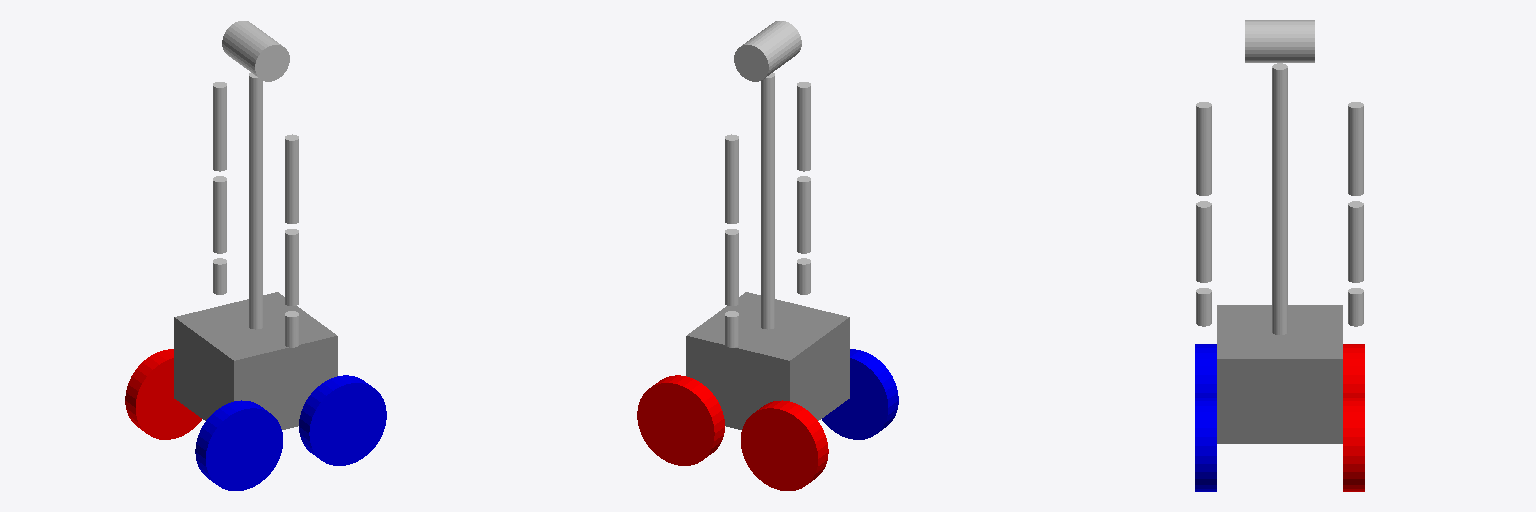
--- Render facts (derived) ---
Views: 3 orthographic renders of the robot side by side, from view 1: azimuth 30°, elevation 25°; view 2: azimuth 150°, elevation 25°; view 3: azimuth 270°, elevation 25°.
Model wheeled_atlas with 29 links and 28 joints (14 revolute, 4 continuous, 10 fixed), rooted at base_link, posed all joints at 0.
Links seen in each view (by area): view 1: base, RbackWheel, RfrontWheel, LfrontWheel, Torso, NeckPitch_link, LShoulderRoll_link, RShoulderRoll_link, LElbowPitch_link, RElbowPitch_link; view 2: base, LbackWheel, LfrontWheel, RfrontWheel, Torso, NeckPitch_link, RShoulderRoll_link, LShoulderRoll_link, RElbowPitch_link, LElbowPitch_link; view 3: base, Torso, NeckPitch_link, LbackWheel, RbackWheel, LShoulderRoll_link, RShoulderRoll_link, LElbowPitch_link, RElbowPitch_link, LfrontWheel, RfrontWheel, LWristRoll_link (+1 smaller).
Link boxes in pixels (left/top/right/bottom): base: left=174, top=292, right=337, bottom=429; RbackWheel: left=299, top=375, right=386, bottom=465; RfrontWheel: left=195, top=400, right=282, bottom=490; LfrontWheel: left=125, top=349, right=201, bottom=439; Torso: left=249, top=73, right=262, bottom=329; NeckPitch_link: left=222, top=21, right=289, bottom=81; LShoulderRoll_link: left=213, top=82, right=226, bottom=171; RShoulderRoll_link: left=285, top=134, right=298, bottom=223; LElbowPitch_link: left=213, top=176, right=226, bottom=253; RElbowPitch_link: left=285, top=229, right=298, bottom=305; base: left=686, top=292, right=849, bottom=429; LbackWheel: left=637, top=375, right=724, bottom=465; LfrontWheel: left=741, top=400, right=828, bottom=490; RfrontWheel: left=822, top=349, right=898, bottom=439; Torso: left=761, top=73, right=774, bottom=329; NeckPitch_link: left=734, top=21, right=801, bottom=81; RShoulderRoll_link: left=797, top=82, right=810, bottom=171; LShoulderRoll_link: left=725, top=134, right=738, bottom=223; RElbowPitch_link: left=797, top=176, right=810, bottom=253; LElbowPitch_link: left=725, top=229, right=738, bottom=305; base: left=1217, top=305, right=1342, bottom=443; Torso: left=1272, top=63, right=1287, bottom=334; NeckPitch_link: left=1245, top=20, right=1314, bottom=62; LbackWheel: left=1343, top=397, right=1364, bottom=491; RbackWheel: left=1195, top=397, right=1216, bottom=491; LShoulderRoll_link: left=1348, top=102, right=1363, bottom=195; RShoulderRoll_link: left=1196, top=102, right=1211, bottom=195; LElbowPitch_link: left=1348, top=201, right=1363, bottom=282; RElbowPitch_link: left=1196, top=201, right=1211, bottom=282; LfrontWheel: left=1343, top=344, right=1364, bottom=396; RfrontWheel: left=1195, top=344, right=1216, bottom=396; LWristRoll_link: left=1348, top=288, right=1363, bottom=326.
Size in the robot's own frame: 0.7 by 0.54 by 1.53 metres.
Geometry: primitives only (box / cylinder / sphere), no mesh files.

The robot description file, URDF, robot "wheeled_atlas":
<?xml version="1.0" ?>
<!-- =================================================================================== -->
<!-- |    This document was autogenerated by xacro from WheeledAtlas.urdf.xacro        | -->
<!-- |    EDITING THIS FILE BY HAND IS NOT RECOMMENDED                                 | -->
<!-- =================================================================================== -->
<robot name="wheeled_atlas" xmlns:body="http://playerstage.sourceforge.net/gazebo/xmlschema/#body" xmlns:controller="http://playerstage.sourceforge.net/gazebo/xmlschema/#controller" xmlns:geom="http://playerstage.sourceforge.net/gazebo/xmlschema/#geom" xmlns:interface="http://playerstage.sourceforge.net/gazebo/xmlschema/#interface" xmlns:joint="http://playerstage.sourceforge.net/gazebo/xmlschema/#slider" xmlns:sensor="http://playerstage.sourceforge.net/gazebo/xmlschema/#sensor" xmlns:xacro="http://ros.org/wiki/xacro">  
  <!--Properties of the robot-->
  <!--Inertial element for cylinder, axis along z-->
  <!--Inertial element for a box-->
  <!--Create the visual element for a cylinder-->
  <!--Create the visual element for a box-->
  <!--Creates a link in the form of a cylinder-->
  <!--Creates a link in the form of a box-->
  <!--Creates a simple joint between two cylindrical links.-->
  <!--Creates a simple joint between two cylindrical links.-->
  <!--Creates a simple fixed joint-->
  <!--Creates a left and a right of some cylinder-->
  <!--Creates a left and a right of some cylinder-->
  <!--Creates a SIMPLE left and a right joints-->
  <!--Creates a COMPLEX left and a right joints-->
  <!--Creates a COMPLEX left and a right joints-->
  <!--Creates two fixed joints-->
  <!--Creates a transmission at a joint.-->
  <!--Creates a pair of transmissions-->

  <material name="LightGrey">
    <color rgba="0.8 0.8 0.8 1.0"/>
  </material>
  <material name="Grey">
    <color rgba="0.6 0.6 0.6 1.0"/>
  </material>
  <material name="DarkGrey">
    <color rgba="0.3 0.3 0.3 1.0"/>
  </material>
  <material name="Black">
    <color rgba="0.1 0.1 0.1 1.0"/>
  </material>


<link name="Torso">
    <!-- assuming the rotational inertia of the torso is of a cuboid -->
    <inertial>
      <mass value="19.267"/>
      <inertia ixx="0.769042349872" ixy="0.0" ixz="0.0" iyy="0.418881944536" iyz="0.0" izz="0.452546488768"/>
    </inertial>
    <visual>
      <origin rpy="0 0 0" xyz="0.0 0.0 0.43927308"/>
      <geometry>
        <cylinder length="0.97854616" radius="0.025"/>
      </geometry>
      <material name="LightGrey"/>
    </visual>
    <collision>
      <origin rpy="0 0 0" xyz="0.0 0.0 0.43927308"/>
      <geometry>
        <box size=" 0.178562 0.4999736 0.97854616"/>
      </geometry>
    </collision>
  </link>

   <link name="NeckYaw_link">
    <inertial>
      <mass value="0.9"/>
      <inertia ixx="0.00530271247008" ixy="0.0" ixz="0.0" iyy="0.00530271247008" iyz="0.0" izz="0.00201768391825"/>
    </inertial>
  </link>
  <link name="NeckPitch_link">
    <inertial>
      <mass value="0.9"/>
      <inertia ixx="0.00530271247008" ixy="0.0" ixz="0.0" iyy="0.00530271247008" iyz="0.0" izz="0.00201768391825"/>
    </inertial>
    <visual>
      <origin rpy="1.57079632679 0 0" xyz="0 0 0.13749274"/>
      <geometry>
        <cylinder length="0.22141688" radius="0.06696075"/>
        <!--  <sphere radius="${(l_head/2)*height}"/>-->
      </geometry>
      <material name="LightGrey"/>
    </visual>
    <collision>
      <origin rpy="1.57 0 0" xyz="0 0 0.13749274"/>
      <geometry>
        <cylinder length="0.23927308" radius="0.06696075"/>
      </geometry>
    </collision>
  </link>
   <link name="LShoulderYaw_link">
    <inertial>
      <mass value="2.18522222222"/>
     <inertia ixx="0.0231667622255" ixy="0.0" ixz="0.0" iyy="0.0231667622255" iyz="0.0" izz="0.00217732727683"/>
    </inertial>
  </link>
  <link name="LShoulderPitch_link">
    <inertial>
      <mass value="2.18522222222"/>
      <inertia ixx="0.0231667622255" ixy="0.0" ixz="0.0" iyy="0.0231667622255" iyz="0.0" izz="0.00217732727683"/>
    </inertial>
  </link>
  <link name="LShoulderRoll_link">
    <inertial>
      <mass value="2.18522222222"/>
      <inertia ixx="0.0231667622255" ixy="0.0" ixz="0.0" iyy="0.0231667622255" iyz="0.0" izz="0.00217732727683"/>
    </inertial>
    <visual>
      <origin rpy="0 0 0" xyz="0 0 -0.17409795"/>
      <geometry>
        <cylinder length="0.3081959" radius="0.025"/>
      </geometry>
      <material name="LightGrey"/>
    </visual>
    <collision>
      <origin rpy="0 0 0" xyz="0 0 -0.17409795"/>
      <geometry>
        <cylinder length="0.3481959" radius="0.025"/>
      </geometry>
    </collision>
  </link>
  <link name="LElbowPitch_link">
    <inertial>
      <mass value="3.27783333333"/>
      <inertia ixx="0.0268028987778" ixy="0.0" ixz="0.0" iyy="0.0268028987778" iyz="0.0" izz="0.00326599091525"/>
    </inertial>
    <visual>
      <origin rpy="0 0 0" xyz="0 0 -0.1517777"/>
      <geometry>
        <cylinder length="0.2635554" radius="0.025"/>
      </geometry>
      <material name="LightGrey"/>
    </visual>
    <collision>
      <origin rpy="0 0 0" xyz="0 0 -0.1517777"/>
      <geometry>
        <cylinder length="0.3035554" radius="0.025"/>
      </geometry>
    </collision>
  </link>
  <link name="LWristYaw_link">
    <inertial>
      <mass value="1.0"/>
      <inertia ixx="0.0048720194876" ixy="0.0" ixz="0.0" iyy="0.0048720194876" iyz="0.0" izz="0.00199277424025"/>
    </inertial>
  </link>
  <link name="LWristRoll_link">
    <inertial>
      <mass value="1.0"/>
  <inertia ixx="0.0048720194876" ixy="0.0" ixz="0.0" iyy="0.0048720194876" iyz="0.0" izz="0.00199277424025"/>
    </inertial>
    <visual>
      <origin rpy="0 0 0" xyz="0 0 -0.076245974"/>
      <geometry>
        <cylinder length="0.112491948" radius="0.025"/>
      </geometry>
      <material name="LightGrey"/>
    </visual>
    <collision>
      <origin rpy="0 0 0" xyz="0 0 -0.076245974"/>
      <geometry>
        <cylinder length="0.152491948" radius="0.025"/>
      </geometry>
    </collision>
  </link>
  <link name="RShoulderYaw_link">
    <inertial>
      <mass value="2.18522222222"/>
      <inertia ixx="0.0231667622255" ixy="0.0" ixz="0.0" iyy="0.0231667622255" iyz="0.0" izz="0.00217732727683"/>
    </inertial>
  </link>
  <link name="RShoulderPitch_link">
    <inertial>
      <mass value="2.18522222222"/>
      <inertia ixx="0.0231667622255" ixy="0.0" ixz="0.0" iyy="0.0231667622255" iyz="0.0" izz="0.00217732727683"/>
    </inertial>
  </link>
  <link name="RShoulderRoll_link">
    <inertial>
      <mass value="2.18522222222"/>
      <inertia ixx="0.0231667622255" ixy="0.0" ixz="0.0" iyy="0.0231667622255" iyz="0.0" izz="0.00217732727683"/>
    </inertial>
    <visual>
      <origin rpy="0 0 0" xyz="0 0 -0.17409795"/>
      <geometry>
        <cylinder length="0.3081959" radius="0.025"/>
      </geometry>
      <material name="LightGrey"/>
    </visual>
    <collision>
      <origin rpy="0 0 0" xyz="0 0 -0.17409795"/>
      <geometry>
        <cylinder length="0.3481959" radius="0.025"/>
      </geometry>
    </collision>
  </link>
  <link name="RElbowPitch_link">
    <inertial>
      <mass value="3.27783333333"/>
      <inertia ixx="0.0268028987778" ixy="0.0" ixz="0.0" iyy="0.0268028987778" iyz="0.0" izz="0.00326599091525"/>
    </inertial>
    <visual>
      <origin rpy="0 0 0" xyz="0 0 -0.1517777"/>
      <geometry>
        <cylinder length="0.2635554" radius="0.025"/>
      </geometry>
      <material name="LightGrey"/>
    </visual>
    <collision>
      <origin rpy="0 0 0" xyz="0 0 -0.1517777"/>
      <geometry>
        <cylinder length="0.3035554" radius="0.025"/>
      </geometry>
    </collision>
  </link>
  <link name="RWristYaw_link">
    <inertial>
      <mass value="1.0"/>
   <inertia ixx="0.0048720194876" ixy="0.0" ixz="0.0" iyy="0.0048720194876" iyz="0.0" izz="0.00199277424025"/>
    </inertial>
  </link>
  <link name="RWristRoll_link">
    <inertial>
      <mass value="1.0"/>
     <inertia ixx="0.0048720194876" ixy="0.0" ixz="0.0" iyy="0.0048720194876" iyz="0.0" izz="0.00199277424025"/>
    </inertial>
    <visual>
      <origin rpy="0 0 0" xyz="0 0 -0.076245974"/>
      <geometry>
        <cylinder length="0.112491948" radius="0.025"/>
      </geometry>
      <material name="LightGrey"/>
    </visual>
    <collision>
      <origin rpy="0 0 0" xyz="0 0 -0.076245974"/>
      <geometry>
        <cylinder length="0.152491948" radius="0.025"/>
      </geometry>
    </collision>
  </link>

 <!-- Base and Wheels -->
  <link name="base_link">
    <inertial>
      <origin rpy="0 0 0" xyz="0 0 0"/>
      <mass value="0.01"/>
      <inertia ixx="0.0001" ixy="0.0" ixz="0.0" iyy="0.0001" iyz="0.0" izz="0.0001"/>
    </inertial>
  </link>
  <link name="base">
    <inertial>
      <mass value="121.06"/>
      <inertia ixx="1.70235" ixy="0" ixz="0" iyy="1.70235" iyz="0" izz="0.5616"/>
    </inertial>
    <visual>
      <origin rpy="0 0 0" xyz="0 0 0"/>
      <geometry>
        <box size="0.4 0.4 0.3"/>
      </geometry>
      <material name="Lgrey">
        <color rgba=".6 .6 .6 1"/>
      </material>
    </visual>
    <collision>
      <origin rpy="0 0 0" xyz="0 0 0"/>
      <geometry>
        <box size="0.4 0.4 0.3"/>
      </geometry>
    </collision>
  </link>
  <link name="LfrontWheel">
    <inertial>
      <mass value="13.51"/>
      <inertia ixx="0.021177" ixy="0" ixz="0" iyy="0.021177" iyz="0" izz="0.0394875"/>
    </inertial>
    <visual>
      <origin rpy="0 0 0" xyz="0 0 0"/>
      <geometry>
        <cylinder length="0.07" radius="0.15"/>
      </geometry>
      <material name="red">
        <color rgba="1 0 0 1"/>
      </material>
    </visual>
    <collision>
      <origin rpy="0 0 0" xyz="0 0 0"/>
      <geometry>
        <cylinder length="0.07" radius="0.15"/>
      </geometry>
    </collision>
  </link>
  <link name="RfrontWheel">
    <inertial>
      <mass value="13.51"/>
      <inertia ixx="0.021177" ixy="0" ixz="0" iyy="0.021177" iyz="0" izz="0.0394875"/>
    </inertial>
    <visual>
      <origin rpy="0 0 0" xyz="0 0 0"/>
      <geometry>
        <cylinder length="0.07" radius="0.15"/>
      </geometry>
      <material name="blue">
        <color rgba="0 0 1 1"/>
      </material>
    </visual>
    <collision>
      <origin rpy="0 0 0" xyz="0 0 0"/>
      <geometry>
        <cylinder length="0.07" radius="0.15"/>
      </geometry>
    </collision>
  </link>
  <link name="LbackWheel">
    <inertial>
      <mass value="13.51"/>
      <inertia ixx="0.021177" ixy="0" ixz="0" iyy="0.021177" iyz="0" izz="0.0394875"/>
    </inertial>
    <visual>
      <origin rpy="0 0 0" xyz="0 0 0"/>
      <geometry>
        <cylinder length="0.07" radius="0.15"/>
      </geometry>
      <material name="red">
        <color rgba="1 0 0 1"/>
      </material>
    </visual>
    <collision>
      <origin rpy="0 0 0" xyz="0 0 0"/>
      <geometry>
        <cylinder length="0.07" radius="0.15"/>
      </geometry>
    </collision>
  </link>
  <link name="RbackWheel">
    <inertial>
      <mass value="13.51"/>
      <inertia ixx="0.021177" ixy="0" ixz="0" iyy="0.021177" iyz="0" izz="0.0394875"/>
    </inertial>
    <visual>
      <origin rpy="0 0 0" xyz="0 0 0"/>
      <geometry>
        <cylinder length="0.07" radius="0.15"/>
      </geometry>
      <material name="blue">
        <color rgba="0 0 1 1"/>
      </material>
    </visual>
    <collision>
      <origin rpy="0 0 0" xyz="0 0 0"/>
      <geometry>
        <cylinder length="0.07" radius="0.15"/>
      </geometry>
    </collision>
  </link>
  
  
 <!-- JOINTS -->
  <joint name="base_joint" type="fixed">
    <child link="base"/>
    <parent link="base_link"/>
    <origin rpy="0 0 0" xyz="0 0 0"/>
  </joint>

  <joint name="Base_Torso_joint" type="fixed">
    <child link="Torso"/>
    <parent link="base"/>
    <origin rpy="0 0 0" xyz="0 0 0.15"/>
  </joint>

  <joint name="NeckYaw" type="revolute">
    <parent link="Torso"/>
    <child link="NeckYaw_link"/>
    <origin rpy="0 0 0" xyz="0 0 0.87854616"/>
    <axis xyz="0 0 1"/>
    <limit effort="54" lower="-1.5707963259" upper="1.5707963259" velocity="3"/>
 <!--   <dynamics damping="100" friction="10"/>-->
    <dynamics damping="1" friction="10"/>
  </joint>
  <joint name="NeckPitch" type="revolute">
    <parent link="NeckYaw_link"/>
    <child link="NeckPitch_link"/>
    <origin rpy="0 0 0" xyz="0 0 0"/>
    <axis xyz="0 1 0"/>
    <limit effort="25" lower="-0.78539816295" upper="0.78539816295" velocity="3"/>
 <!--   <dynamics damping="100" friction="10"/>-->
    <dynamics damping="1" friction="10"/>
  </joint>
  <joint name="LShoulderRoll" type="revolute">
    <parent link="LShoulderPitch_link"/>
    <child link="LShoulderRoll_link"/>
    <origin rpy="0 0 0" xyz="0 0 0"/>
    <axis xyz="1 0 0"/>
    <limit effort="110" lower="0.0" upper="2.00712863865" velocity="3"/>
 <!--   <dynamics damping="100" friction="10"/>-->
    <dynamics damping="1" friction="10"/>
  </joint>
  <joint name="RShoulderRoll" type="revolute">
    <parent link="RShoulderPitch_link"/>
    <child link="RShoulderRoll_link"/>
    <origin rpy="0 0 0" xyz="0 0 0"/>
    <axis xyz="1 0 0"/>
    <limit effort="110" lower="-2.00712863865" upper="-0.0" velocity="3"/>
 <!--   <dynamics damping="100" friction="10"/>-->
    <dynamics damping="1" friction="10"/>
  </joint>
  <joint name="LShoulderYaw" type="revolute">
    <parent link="base"/>
    <child link="LShoulderYaw_link"/>
    <origin rpy="0 0 0" xyz="0 0.2410587 0.96426384"/>
    <axis xyz="0 0 1"/>
    <limit effort="80" lower="-0.6981317004" upper="1.745329251" velocity="3"/>
 <!--   <dynamics damping="100" friction="10"/>-->
    <dynamics damping="1" friction="10"/>
  </joint>
  <joint name="LShoulderPitch" type="revolute">
    <parent link="LShoulderYaw_link"/>
    <child link="LShoulderPitch_link"/>
    <origin rpy="0 0 0" xyz="0 0 0"/>
    <axis xyz="0 1 0"/>
    <limit effort="110" lower="-1.5707963259" upper="0.8726646255" velocity="3"/>
 <!--   <dynamics damping="100" friction="10"/>-->
    <dynamics damping="1" friction="10"/>
  </joint>
  <joint name="LElbowPitch" type="revolute">
    <parent link="LShoulderRoll_link"/>
    <child link="LElbowPitch_link"/>
    <origin rpy="0 0 0" xyz="0 0 -0.3481959"/>
    <axis xyz="0 1 0"/>
    <limit effort="100" lower="-2.35619448885" upper="0.0" velocity="3"/>
 <!--   <dynamics damping="100" friction="10"/>-->
    <dynamics damping="1" friction="10"/>
  </joint>
  <joint name="LWristYaw" type="revolute">
    <parent link="LElbowPitch_link"/>
    <child link="LWristYaw_link"/>
    <origin rpy="0 0 0" xyz="0 0 -0.3035554"/>
    <axis xyz="0 0 1"/>
    <limit effort="15" lower="-1.48352986335" upper="1.48352986335" velocity="3"/>
 <!--   <dynamics damping="100" friction="10"/>-->
    <dynamics damping="1" friction="10"/>
  </joint>
  <joint name="RShoulderYaw" type="revolute">
    <parent link="base"/>
    <child link="RShoulderYaw_link"/>
    <origin rpy="0 0 0" xyz="0 -0.2410587 0.96426384"/>
    <axis xyz="0 0 1"/>
    <limit effort="80" lower="-0.6981317004" upper="1.745329251" velocity="3"/>
 <!--   <dynamics damping="100" friction="10"/>-->
    <dynamics damping="1" friction="10"/>
  </joint>
  <joint name="RShoulderPitch" type="revolute">
    <parent link="RShoulderYaw_link"/>
    <child link="RShoulderPitch_link"/>
    <origin rpy="0 0 0" xyz="0 0 0"/>
    <axis xyz="0 1 0"/>
    <limit effort="110" lower="-1.5707963259" upper="0.8726646255" velocity="3"/>
 <!--   <dynamics damping="100" friction="10"/>-->
    <dynamics damping="1" friction="10"/>
  </joint>
  <joint name="RElbowPitch" type="revolute">
    <parent link="RShoulderRoll_link"/>
    <child link="RElbowPitch_link"/>
    <origin rpy="0 0 0" xyz="0 0 -0.3481959"/>
    <axis xyz="0 1 0"/>
    <limit effort="100" lower="-2.35619448885" upper="0.0" velocity="3"/>
 <!--   <dynamics damping="100" friction="10"/>-->
    <dynamics damping="1" friction="10"/>
  </joint>
  <joint name="RWristYaw" type="revolute">
    <parent link="RElbowPitch_link"/>
    <child link="RWristYaw_link"/>
    <origin rpy="0 0 0" xyz="0 0 -0.3035554"/>
    <axis xyz="0 0 1"/>
    <limit effort="15" lower="-1.48352986335" upper="1.48352986335" velocity="3"/>
 <!--   <dynamics damping="100" friction="10"/>-->
    <dynamics damping="1" friction="10"/>
  </joint>
  <joint name="LWristRoll" type="revolute">
    <parent link="LWristYaw_link"/>
    <child link="LWristRoll_link"/>
    <origin rpy="0 0 0" xyz="0 0 0"/>
    <axis xyz="1 0 0"/>
    <limit effort="30" lower="-0.5235987753" upper="1.0471975506" velocity="3"/>
 <!--   <dynamics damping="100" friction="10"/>-->
    <dynamics damping="1" friction="10"/>
  </joint>
  <joint name="RWristRoll" type="revolute">
    <parent link="RWristYaw_link"/>
    <child link="RWristRoll_link"/>
    <origin rpy="0 0 0" xyz="0 0 0"/>
    <axis xyz="1 0 0"/>
    <limit effort="30" lower="-1.0471975506" upper="0.5235987753" velocity="3"/>
 <!--   <dynamics damping="100" friction="10"/>-->
    <dynamics damping="1" friction="10"/>
  </joint>
  
  <!-- WHEELS -->
  <joint name="RfrontWheel_joint" type="continuous">
    <parent link="base"/>
    <child link="RfrontWheel"/>
    <origin rpy="0 1.570796325 1.570796325" xyz="-0.2 -0.235 -0.15"/>
    <axis xyz="0 0 1"/>
     <dynamics damping="1"/> 
  </joint>
  <joint name="LfrontWheel_joint" type="continuous">
    <parent link="base"/>
    <child link="LfrontWheel"/>
    <origin rpy="0 1.570796325 1.570796325" xyz="-0.2 0.235 -0.15"/>
    <axis xyz="0 0 1"/>
     <dynamics damping="1"/> 
  </joint>
  <joint name="RbackWheel_joint" type="continuous">
    <parent link="base"/>
    <child link="RbackWheel"/>
    <origin rpy="0 1.570796325 1.570796325" xyz="0.2 -0.235 -0.15"/>
    <axis xyz="0 0 1"/>
     <dynamics damping="1"/> 
  </joint>
  <joint name="LbackWheel_joint" type="continuous">
    <parent link="base"/>
    <child link="LbackWheel"/>
    <origin rpy="0 1.570796325 1.570796325" xyz="0.2 0.235 -0.15"/>
    <axis xyz="0 0 1"/>
    <dynamics damping="1"/> 
  </joint>
 

  <gazebo>
    <controller:diffdrive_plugin name="differential_drive_controller" plugin="libfourWheeled_diffdrive_plugin.so">
     <alwaysOn>true</alwaysOn>
     <frontleftJoint>LfrontWheel_joint</frontleftJoint>
        <frontrightJoint>RfrontWheel_joint</frontrightJoint>
        <rearleftJoint>LbackWheel_joint</rearleftJoint>
        <rearrightJoint>RbackWheel_joint</rearrightJoint>
        <wheelSeparation>0.47</wheelSeparation>
        <wheelDiameter>0.15</wheelDiameter>
        <torque>100</torque>
         <interface:position name="position_iface_0"/> 
        <topicName>cmd_vel</topicName>
      </controller:diffdrive_plugin>      
      
   <controller:joint_actuation_plugin name="joint_torque_controller" plugin="libjoint_actuation_plugin.so">
        <alwaysOn>true</alwaysOn>
        <topicName>actuator_cmd</topicName>
      </controller:joint_actuation_plugin>     
      
      <controller:gazebo_ros_pub_robot_state name="gazebo_ros_pub_robot_controller" plugin="libgazebo_ros_pub_robot_state.so">
   	 <alwaysOn>true</alwaysOn>
   	 <updateRate>100.0</updateRate>
   	 <topicName>true_robot_state</topicName>
   	 </controller:gazebo_ros_pub_robot_state>
   </gazebo>



<!--- Sensor Blocks, mfallon -->
  <joint name="torso_sensorrig_joint" type="fixed">
    <axis xyz="0 1 0"/>
    <origin rpy="0 0 0" xyz="0 0.0 0.8"/>
    <parent link="Torso"/>
    <child link="sensorrig_link"/>
  </joint>



  <link name="sensorrig_link" type="fixed">
    <inertial>
      <mass value="0.001"/>
      <origin rpy="0 0 0" xyz="0 0 0"/>
      <inertia ixx="0.0001" ixy="0" ixz="0" iyy="0.000001" iyz="0" izz="0.0001"/>
    </inertial>
  </link>
  <joint name="base_laser_joint" type="fixed">
    <axis xyz="0 1 0"/>
    <origin rpy="1.570796325 0 0" xyz="0.275 0.0 0.252"/>
    <parent link="sensorrig_link"/>
    <child link="base_laser_link"/>
  </joint>
  <link name="base_laser_link" type="laser">
    <inertial>
      <mass value="0.001"/>
      <origin rpy="0 90 0" xyz="0 0 0"/>
      <inertia ixx="0.0001" ixy="0" ixz="0" iyy="0.000001" iyz="0" izz="0.0001"/>
    </inertial>
  </link>
  <gazebo reference="base_laser_link">
    <sensor:ray name="base_laser">
      <rayCount>640</rayCount>
      <rangeCount>640</rangeCount>
      <laserCount>1</laserCount>
      <origin>0.0 0.0 0.0</origin>
      <displayRays>false</displayRays>
      <minAngle>-129.998394137</minAngle>
      <maxAngle>129.998394137</maxAngle>
      <minRange>0.08</minRange>
      <maxRange>10.0</maxRange>
      <resRange>0.01</resRange>
      <updateRate>20</updateRate>
      <controller:gazebo_ros_laser name="gazebo_ros_base_laser_controller" plugin="libgazebo_ros_laser.so">
        <gaussianNoise>0.005</gaussianNoise>
        <alwaysOn>true</alwaysOn>
        <updateRate>20</updateRate>
        <topicName>base_scan</topicName>
        <frameName>base_laser_link</frameName>
        <interface:laser name="gazebo_ros_base_laser_iface"/>
      </controller:gazebo_ros_laser>
    </sensor:ray>
  </gazebo>
  <joint name="wide_stereo_frame_joint" type="fixed">
<!--    <origin rpy="0.0   0.0   0.0" xyz="0.045 0.0 0.0501"/> -->
<!-- Initally the left eye will be at sensor_rig_link/0,0,0/POSE/Body -->
    <origin rpy="0.0   0.0   0.0" xyz="0.0 0.0 0.0"/>
    <parent link="sensorrig_link"/>
    <child link="wide_stereo_link"/>
  </joint>
  <link name="wide_stereo_link">
    <inertial>
      <mass value="0.1"/>
      <origin rpy="0 0 0" xyz="0 0 0"/>
      <inertia ixx="0.01" ixy="0" ixz="0" iyy="0.01" iyz="0" izz="0.01"/>
      <!-- this inertia is made up for now. -->
    </inertial>
  </link>
  <joint name="wide_stereo_optical_frame_joint" type="fixed">
    <origin rpy="-1.57079632679 0.0 -1.57079632679" xyz="0 0 0"/>
    <!-- rotate frame from x-forward to z-forward camera coords -->
    <parent link="wide_stereo_link"/>
    <child link="wide_stereo_optical_frame"/>
  </joint>
  <link name="wide_stereo_optical_frame" type="camera"/>
  <joint name="wide_stereo_gazebo_l_stereo_camera_frame_joint" type="fixed">
    <origin rpy="0 0 0" xyz="0 0 0"/>
    <parent link="wide_stereo_link"/>
    <child link="wide_stereo_gazebo_l_stereo_camera_frame"/>
  </joint>
  <link name="wide_stereo_gazebo_l_stereo_camera_frame">
    <inertial>
      <mass value="0.01"/>
      <origin xyz="0 0 0"/>
      <inertia ixx="0.001" ixy="0.0" ixz="0.0" iyy="0.001" iyz="0.0" izz="0.001"/>
    </inertial>
  </link>
  <joint name="wide_stereo_gazebo_l_stereo_camera_optical_frame_joint" type="fixed">
    <origin rpy="-1.57079632679 0.0 -1.57079632679" xyz="0 0 0"/>
    <parent link="wide_stereo_gazebo_l_stereo_camera_frame"/>
    <child link="wide_stereo_gazebo_l_stereo_camera_optical_frame"/>
  </joint>
  <link name="wide_stereo_gazebo_l_stereo_camera_optical_frame"/>
  <gazebo reference="wide_stereo_gazebo_l_stereo_camera_frame">
    <sensor:camera name="wide_stereo_gazebo_l_stereo_camera_sensor">
      <imageSize>640 480</imageSize>
      <imageFormat>BAYER_BGGR8</imageFormat>
      <hfov>90</hfov>
      <nearClip>0.1</nearClip>
      <farClip>100</farClip>
      <updateRate>25.0</updateRate>
      <controller:gazebo_ros_camera name="wide_stereo_gazebo_l_stereo_camera_controller" plugin="libgazebo_ros_camera.so">
        <alwaysOn>true</alwaysOn>
        <updateRate>25.0</updateRate>
        <cameraName>wide_stereo/left</cameraName>
        <imageTopicName>image_raw</imageTopicName>
        <cameraInfoTopicName>camera_info</cameraInfoTopicName>
        <frameName>wide_stereo_optical_frame</frameName>
        <hackBaseline>0</hackBaseline>
        <CxPrime>320.5</CxPrime>
        <Cx>320.5</Cx>
        <Cy>240.5</Cy>
        <!-- image_width / (2*tan(hfov_radian /2)) -->
        <!-- 320 for wide and 772.55 for narrow stereo camera -->
        <focal_length>320</focal_length>
        <distortion_k1>0.0</distortion_k1>
        <distortion_k2>0.0</distortion_k2>
        <distortion_k3>0.0</distortion_k3>
        <distortion_t1>0.0</distortion_t1>
        <distortion_t2>0.0</distortion_t2>
        <interface:camera name="wide_stereo_gazebo_l_stereo_camera_iface"/>
      </controller:gazebo_ros_camera>
    </sensor:camera>
    <turnGravityOff>true</turnGravityOff>
    <material>PR2/Blue</material>
  </gazebo>
  <joint name="wide_stereo_gazebo_r_stereo_camera_frame_joint" type="fixed">
    <origin rpy="0.0 0.0 0.0" xyz="0.0 -0.09 0.0"/>
    <parent link="wide_stereo_gazebo_l_stereo_camera_frame"/>
    <child link="wide_stereo_gazebo_r_stereo_camera_frame"/>
  </joint>
  <link name="wide_stereo_gazebo_r_stereo_camera_frame">
    <inertial>
      <mass value="0.01"/>
      <origin xyz="0 0 0"/>
      <inertia ixx="0.001" ixy="0.0" ixz="0.0" iyy="0.001" iyz="0.0" izz="0.001"/>
    </inertial>
  </link>
  <joint name="wide_stereo_gazebo_r_stereo_camera_optical_frame_joint" type="fixed">
    <origin rpy="-1.57079632679 0.0 -1.57079632679" xyz="0 0 0"/>
    <parent link="wide_stereo_gazebo_r_stereo_camera_frame"/>
    <child link="wide_stereo_gazebo_r_stereo_camera_optical_frame"/>
  </joint>
  <link name="wide_stereo_gazebo_r_stereo_camera_optical_frame"/>
  <gazebo reference="wide_stereo_gazebo_r_stereo_camera_frame">
    <sensor:camera name="wide_stereo_gazebo_r_stereo_camera_sensor">
      <imageSize>640 480</imageSize>
      <imageFormat>BAYER_BGGR8</imageFormat>
      <hfov>90</hfov>
      <nearClip>0.1</nearClip>
      <farClip>100</farClip>
      <updateRate>25.0</updateRate>
      <controller:gazebo_ros_camera name="wide_stereo_gazebo_r_stereo_camera_controller" plugin="libgazebo_ros_camera.so">
        <alwaysOn>true</alwaysOn>
        <updateRate>25.0</updateRate>
        <cameraName>wide_stereo/right</cameraName>
        <imageTopicName>image_raw</imageTopicName>
        <cameraInfoTopicName>camera_info</cameraInfoTopicName>
        <frameName>wide_stereo_optical_frame</frameName>
        <hackBaseline>0.09</hackBaseline>
        <CxPrime>320.5</CxPrime>
        <Cx>320.5</Cx>
        <Cy>240.5</Cy>
        <!-- image_width / (2*tan(hfov_radian /2)) -->
        <!-- 320 for wide and 772.55 for narrow stereo camera -->
        <focal_length>320</focal_length>
        <distortion_k1>0.0</distortion_k1>
        <distortion_k2>0.0</distortion_k2>
        <distortion_k3>0.0</distortion_k3>
        <distortion_t1>0.0</distortion_t1>
        <distortion_t2>0.0</distortion_t2>
        <interface:camera name="wide_stereo_gazebo_r_stereo_camera_iface"/>
      </controller:gazebo_ros_camera>
    </sensor:camera>
    <turnGravityOff>true</turnGravityOff>
    <material>PR2/Blue</material>
  </gazebo>
  <gazebo reference="wide_stereo_link">
    <material value="PR2/Blue"/>
    <turnGravityOff value="true"/>
  </gazebo>
  <gazebo reference="wide_stereo_optical_frame">
    <material value="Gazebo/White"/>
    <turnGravityOff value="true"/>
  </gazebo>


</robot>
